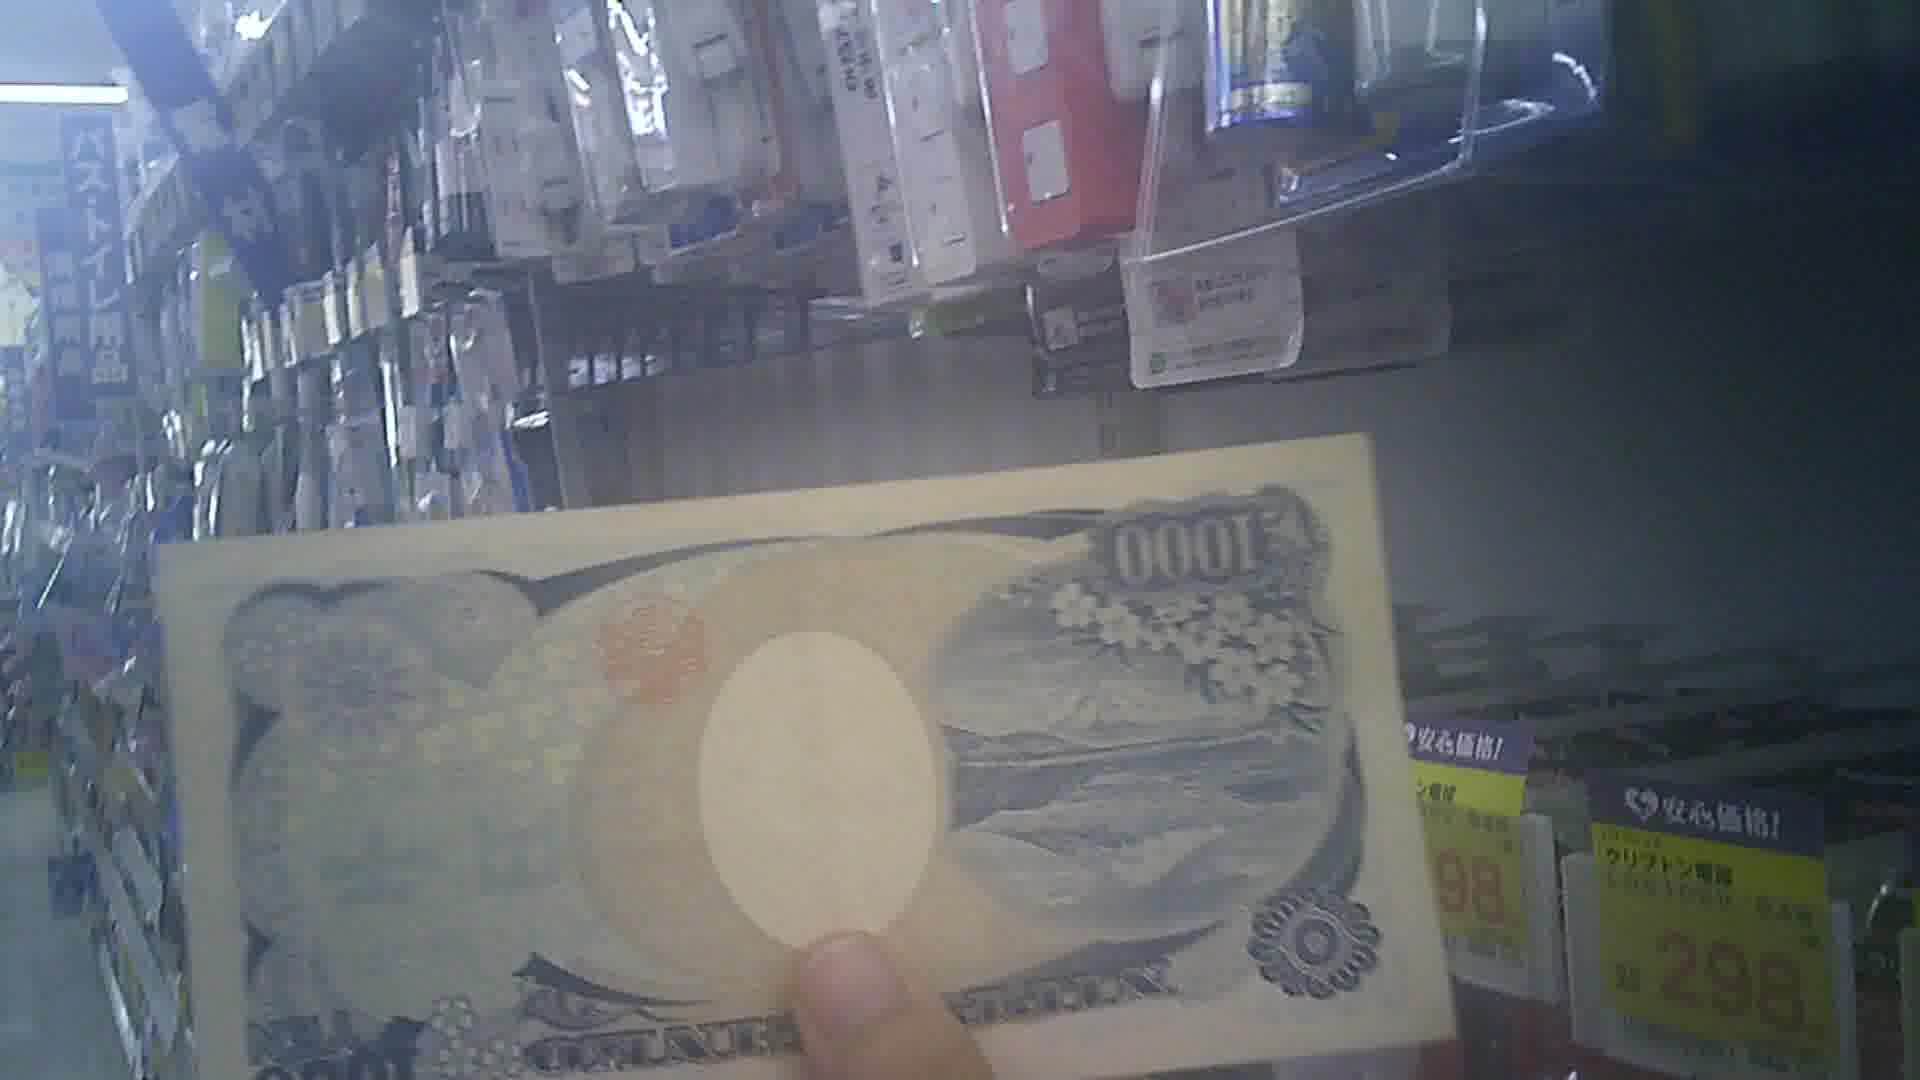1,000 Yen: (160, 469, 1464, 1079)
